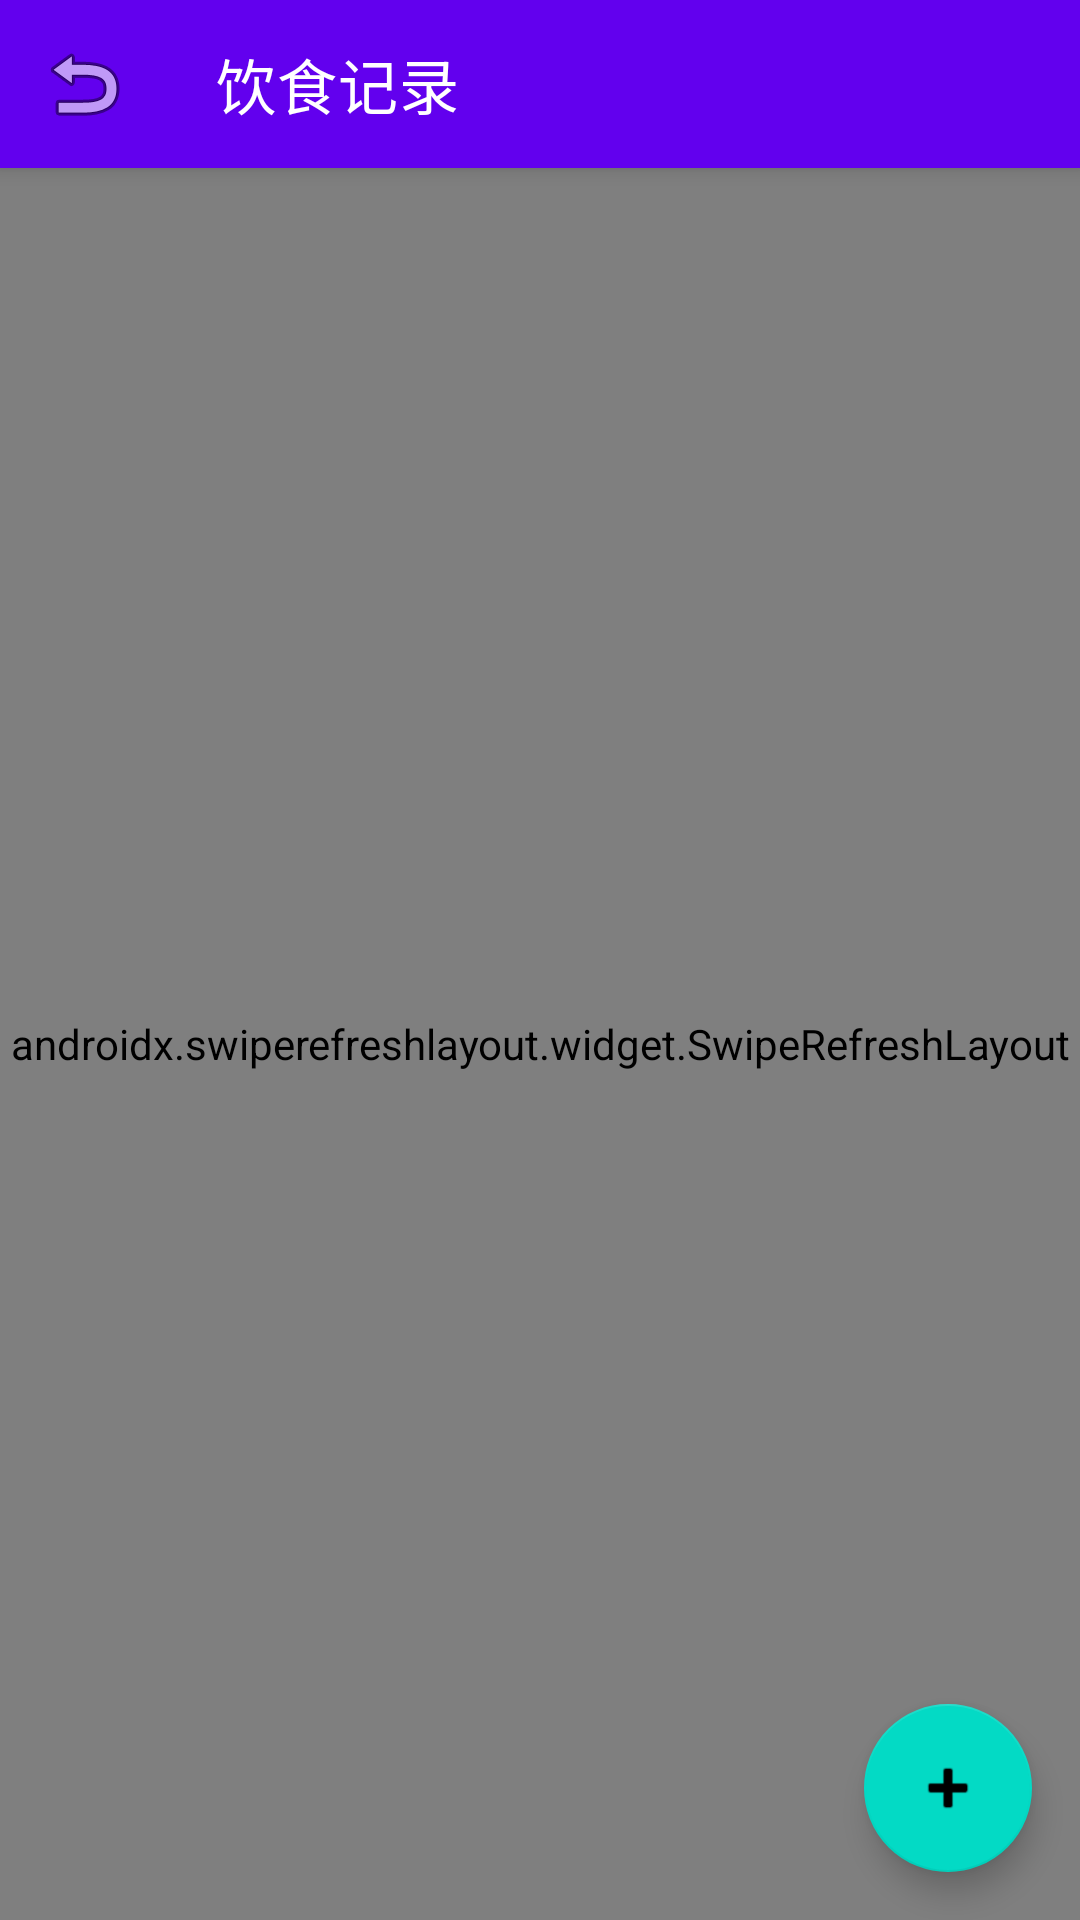

Named icons in this screenshot (1080×1920) and their bounding boxes, bbox(x1, y1, x2, y2):
添加饮食记录: bbox(864, 1704, 1032, 1872)
